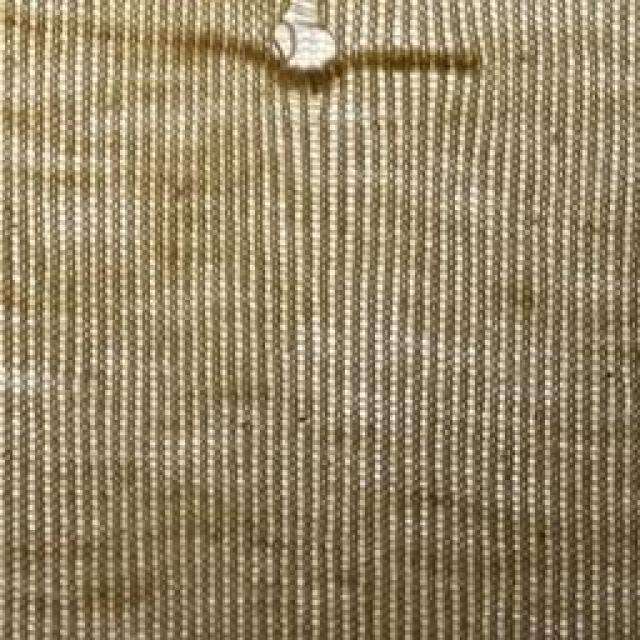other: (254, 3, 378, 111)
